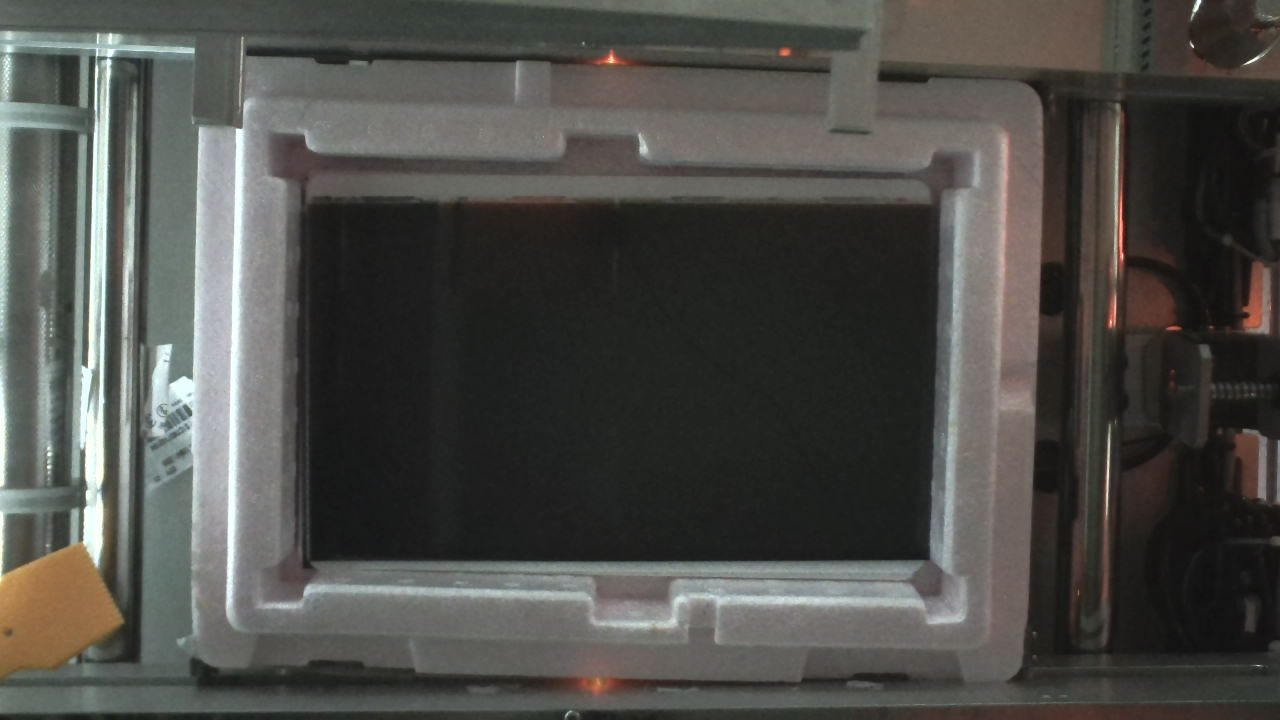OK: (186, 44, 1051, 679)
